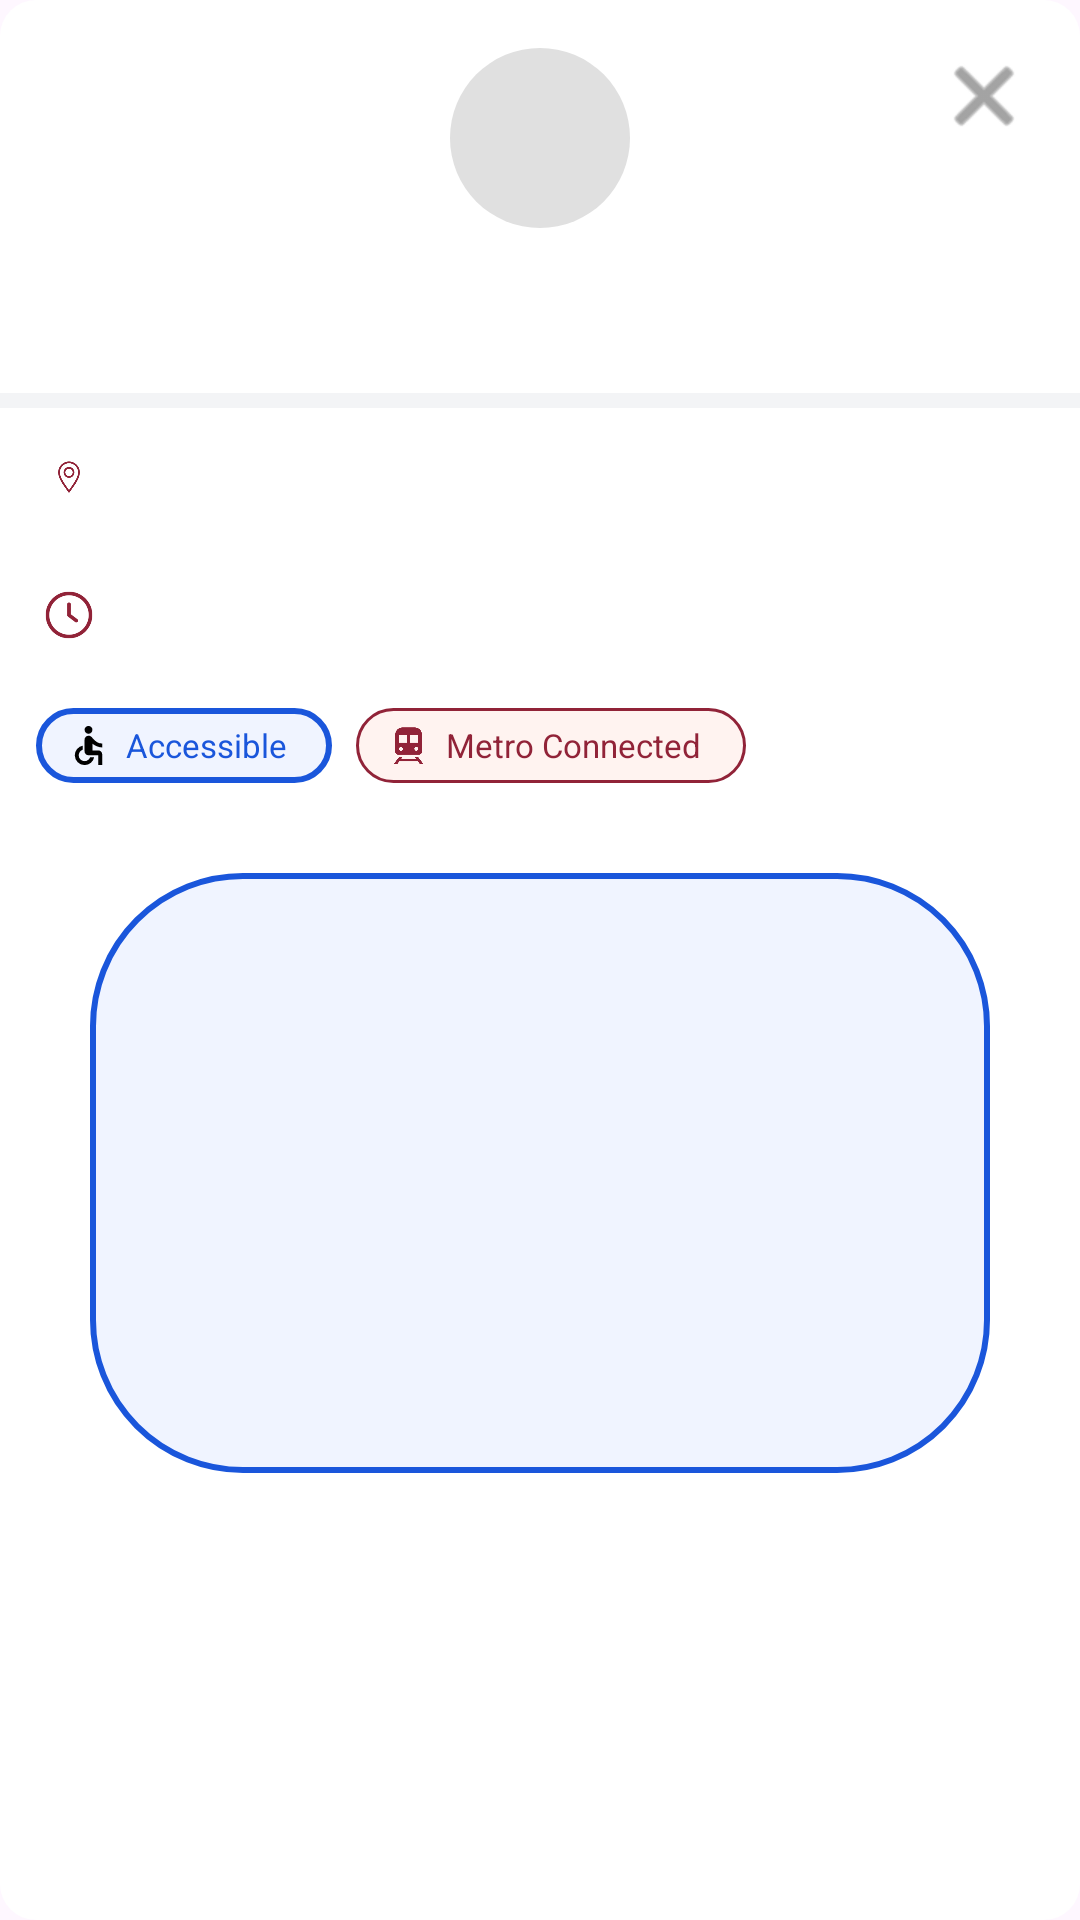

Icon bounding boxes for this 1080 x 1920 phone screenshot, format (x1, y1, x2, y2):
clock: (46, 592, 92, 638)
Close: (954, 66, 1014, 126)
location: (58, 461, 80, 493)
